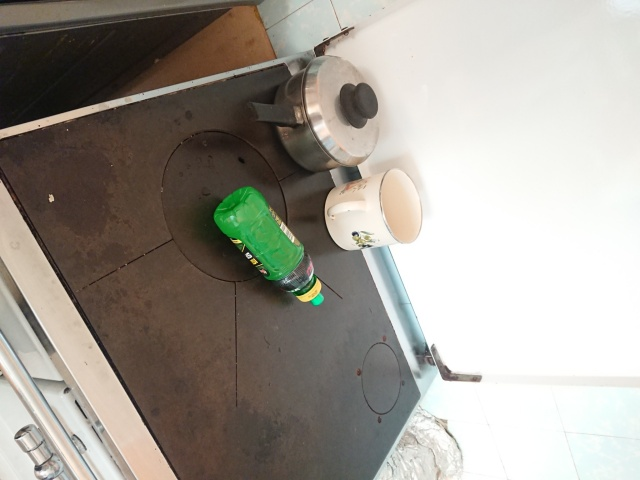Vindi Iso Sport Lemon-Grapefruit 500mL: (211, 183, 327, 308)
